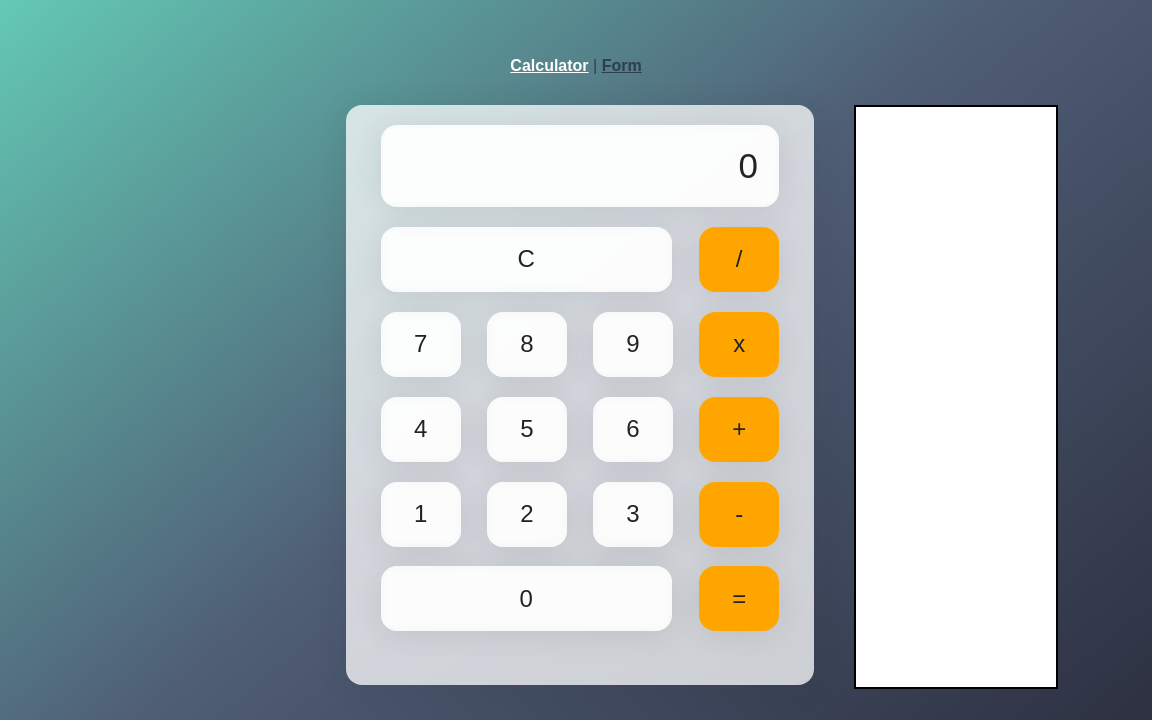
Test case: calculator › adds two numbers
Click the button "2" at [527, 515], box [487, 482, 567, 547]
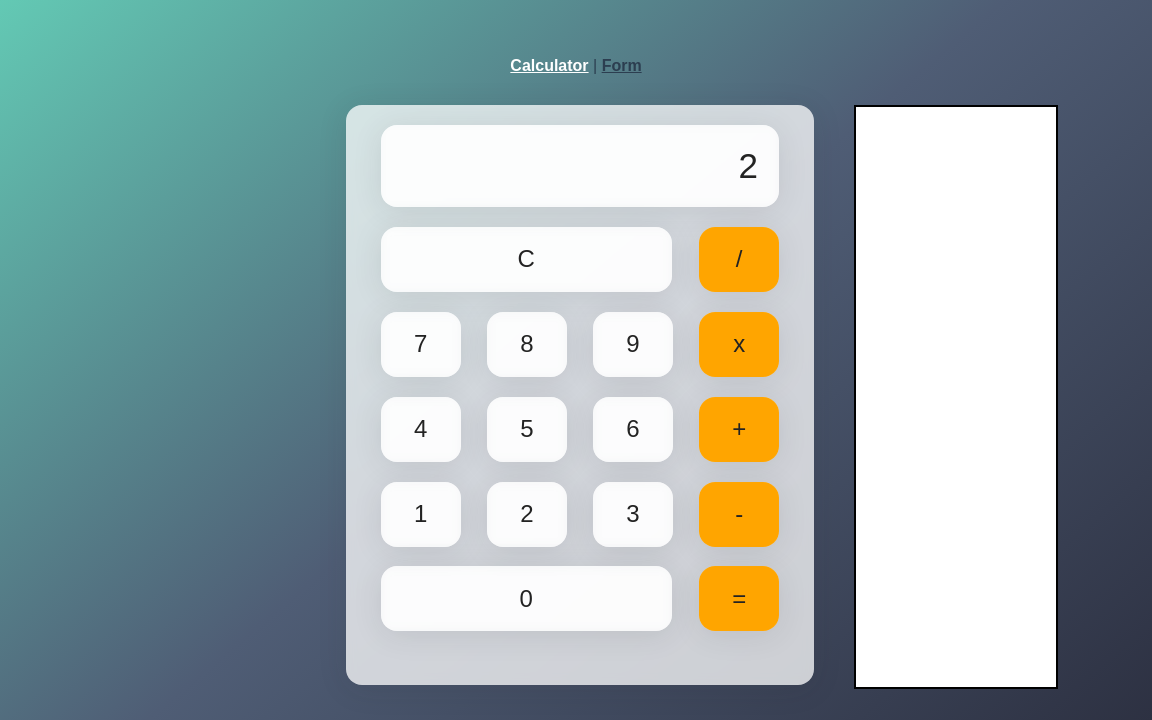
Click the button "+" at [739, 430], box [699, 397, 779, 462]
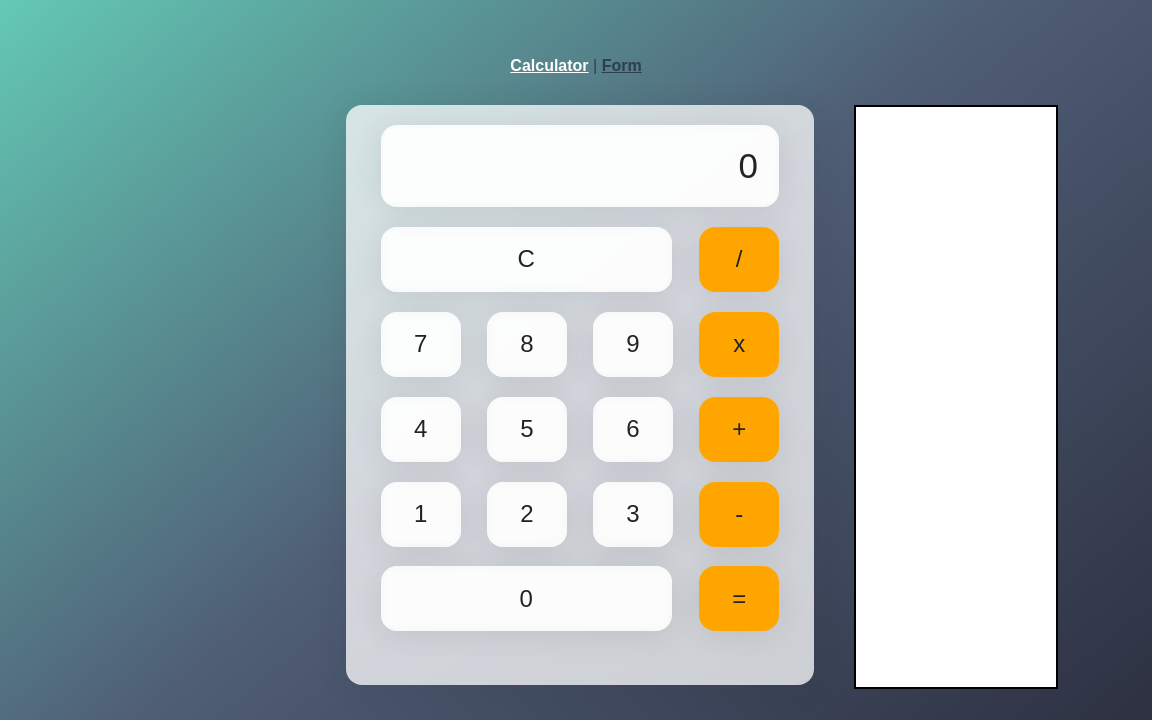
Click the button "2" at [527, 515], box [487, 482, 567, 547]
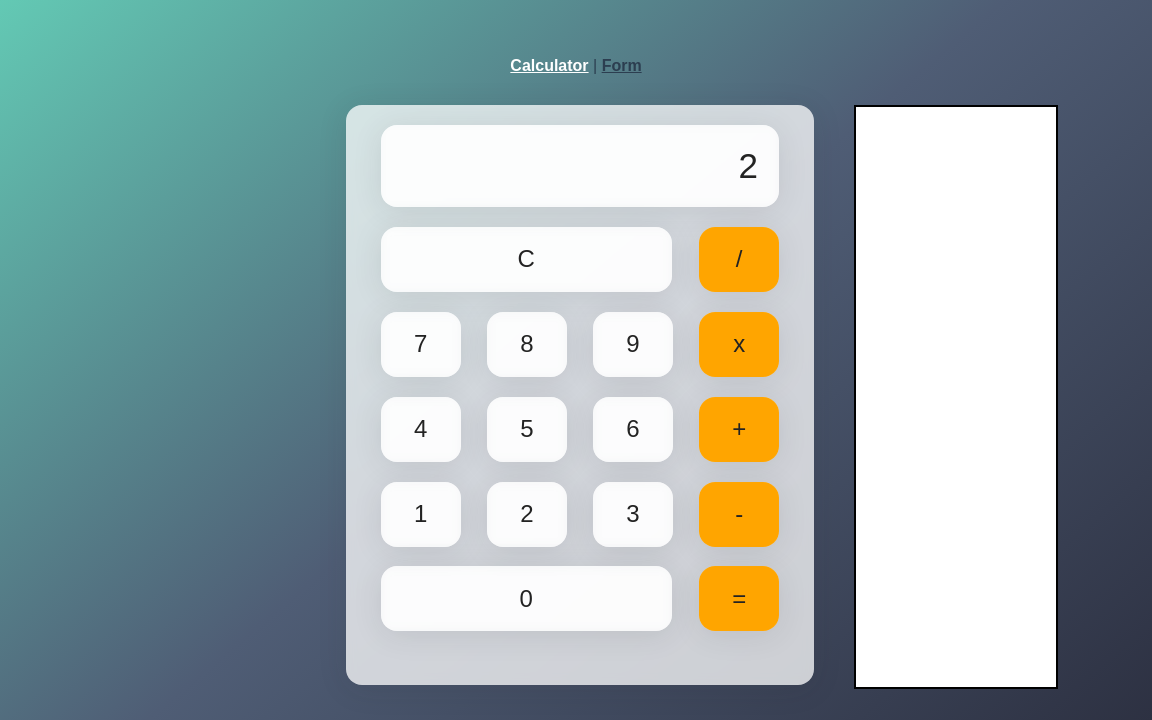
Click the button "=" at [739, 600], box [699, 567, 779, 632]
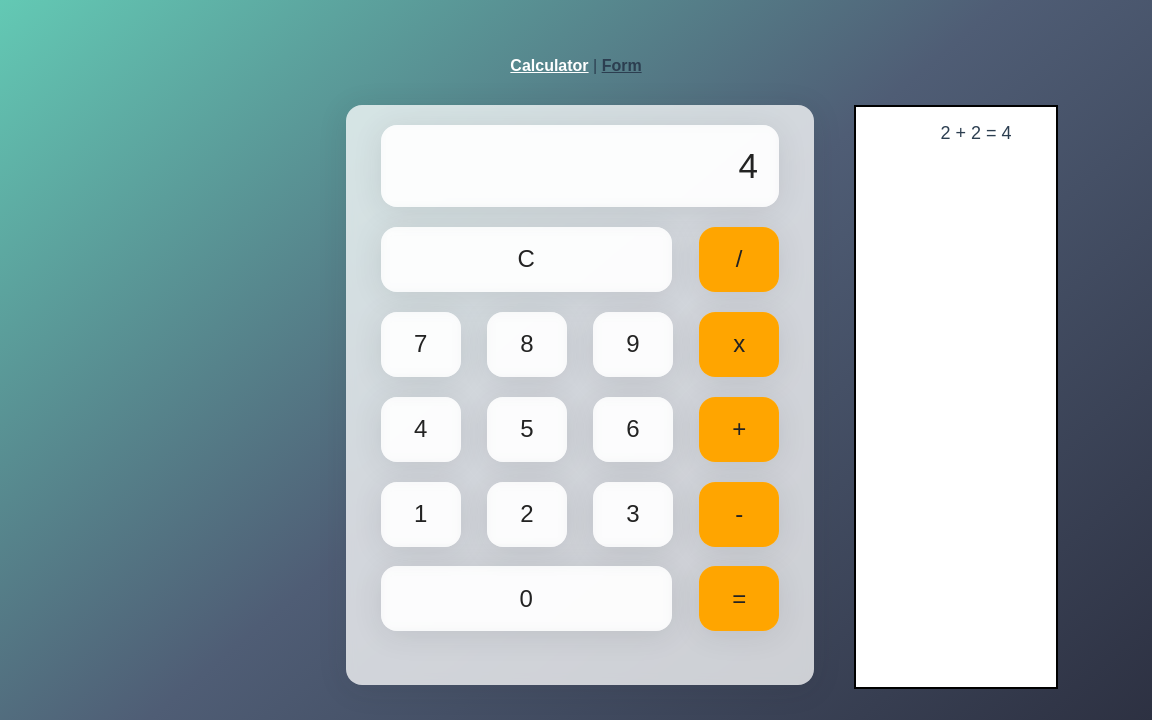
Expected: the text "4" is shown, [381, 125, 779, 207]
